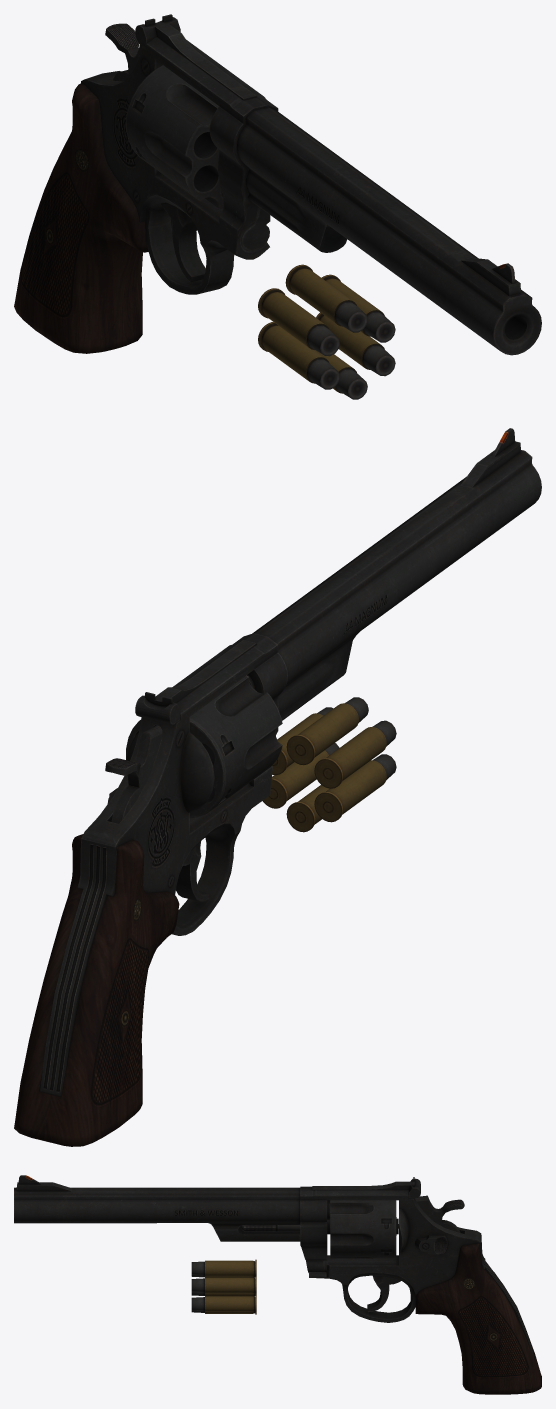
3 views of the same model, one above another, from view 1: azimuth 30°, elevation 25°; view 2: azimuth 150°, elevation 25°; view 3: azimuth 270°, elevation 25° (orthographic). The views are drawn at different scales.
Visible parts, largest first — view 1: sw29.001, sw29.002; view 2: sw29.001, sw29.002; view 3: sw29.001, sw29.002.
Boxes of the visible parts, x1,y1,x2,y2 form: sw29.001: (14,14,541,355); sw29.002: (258,264,395,399); sw29.001: (14,428,541,1146); sw29.002: (262,697,396,832); sw29.001: (14,1175,541,1394); sw29.002: (191,1259,256,1314).
Bounding box in the file's own units: 198 × 734 × 1636.
Materials: 1 (1 with a texture image).
